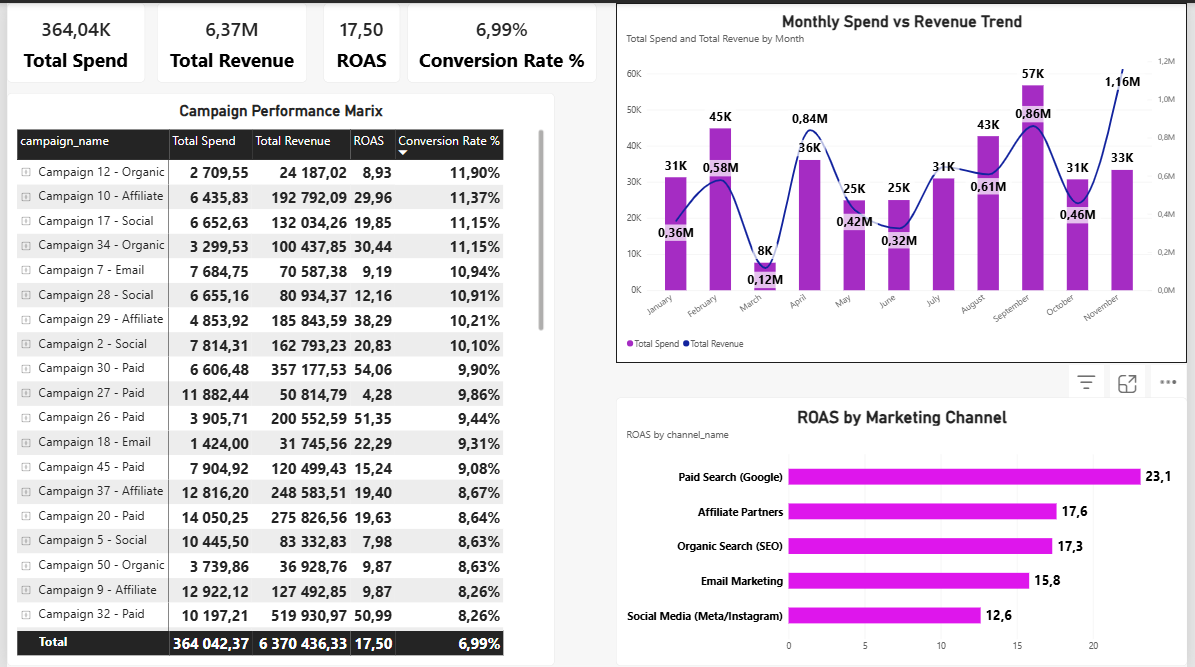

What the dashboard file says about the page in this screenshot:
{"tool":"powerbi","page":{"name":"Campaign Performance & Marketing ROI","canvas":[1920,1080],"ordinal":0},"visuals":[{"type":"card","fields":{"Values":["Fact_Campaign.Total Spend"]},"box":[0,0,224.5,129.3],"z":0},{"type":"card","fields":{"Values":["Fact_Campaign.ROAS"]},"box":[514.8,0,124.4,129.3],"z":1},{"type":"card","fields":{"Values":["Fact_Campaign.Total Revenue"]},"box":[244,0,244,129.3],"z":2},{"type":"card","fields":{"Values":["Fact_Campaign.Conversion Rate %"]},"box":[651.4,0,307.4,129.3],"z":3},{"type":"lineClusteredColumnComboChart","title":"Monthly Spend vs Revenue Trend","fields":{"Category":["Fact_Campaign.start_date.Variation.Date Hierarchy.Month"],"Y":["Fact_Campaign.Total Spend"],"Y2":["Fact_Campaign.Total Revenue"]},"box":[990.6,0,929.6,585.6],"z":4},{"type":"clusteredBarChart","title":"ROAS by Marketing Channel","fields":{"Category":["Dim_Channel.channel_name"],"Y":["Fact_Campaign.ROAS"]},"box":[990.6,641.7,929.6,436.7],"z":5},{"type":"pivotTable","title":"Campaign Performance Marix","fields":{"Rows":["Fact_Campaign.campaign_name","Dim_Channel.channel_name"],"Values":["Fact_Campaign.Total Spend","Fact_Campaign.Total Revenue","Fact_Campaign.ROAS","Fact_Campaign.Conversion Rate %"]},"box":[0,146.4,890.5,932],"z":6}]}

Visuals, with their boxes in screenshot pixels (x1, y1, x2, y2), scaled from the page's 1920x1080 canvas onto the 1195x667 screenshot:
card - Fact_Campaign.Total Spend: (left=0, top=0, right=140, bottom=80)
card - Fact_Campaign.ROAS: (left=320, top=0, right=398, bottom=80)
card - Fact_Campaign.Total Revenue: (left=152, top=0, right=304, bottom=80)
card - Fact_Campaign.Conversion Rate %: (left=405, top=0, right=597, bottom=80)
"Monthly Spend vs Revenue Trend" lineClusteredColumnComboChart: (left=617, top=0, right=1194, bottom=362)
"ROAS by Marketing Channel" clusteredBarChart: (left=617, top=396, right=1194, bottom=666)
"Campaign Performance Marix" pivotTable: (left=0, top=90, right=554, bottom=666)
